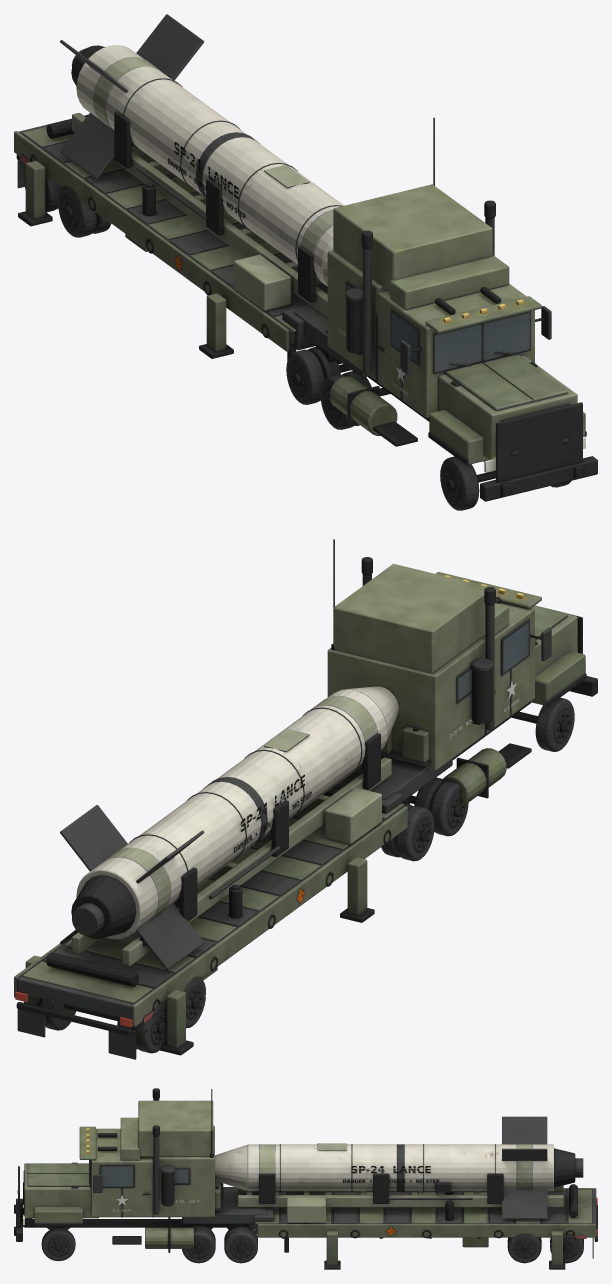
File: launcher.glb
The picture shows the model from 3 angles, top to bottom: view 1: azimuth 30°, elevation 25°; view 2: azimuth 150°, elevation 25°; view 3: azimuth 270°, elevation 25°; orthographic projection. The views are drawn at different scales.
Parts seen in each view (by area): view 1: TractorMesh, MissileMesh, TrailerMesh, ErectorMesh, DecalMslL; view 2: TractorMesh, MissileMesh, TrailerMesh, ErectorMesh, DecalMslL; view 3: TractorMesh, MissileMesh, TrailerMesh, ErectorMesh, DecalMslR.
Part boxes in pixels (x1,y1,x2,y2): TractorMesh: [286, 117, 597, 510]; MissileMesh: [60, 14, 343, 286]; TrailerMesh: [14, 114, 368, 377]; ErectorMesh: [46, 111, 327, 316]; DecalMslL: [168, 142, 245, 218]; TractorMesh: [327, 539, 597, 861]; MissileMesh: [60, 686, 398, 970]; TrailerMesh: [14, 757, 452, 1059]; ErectorMesh: [46, 733, 391, 986]; DecalMslL: [234, 774, 311, 852]; TractorMesh: [14, 1088, 257, 1263]; MissileMesh: [215, 1116, 583, 1219]; TrailerMesh: [182, 1187, 597, 1269]; ErectorMesh: [238, 1173, 577, 1217]; DecalMslR: [343, 1166, 439, 1182].
Size of the model in its own units: 3.6 by 5.8 by 17.92.
9 materials, 9 textured.
